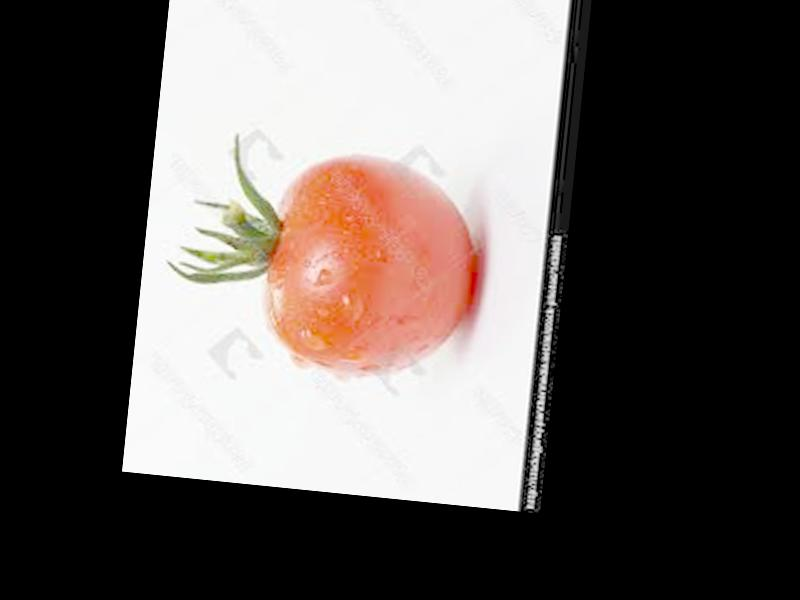Tomato: (261, 147, 485, 385)
